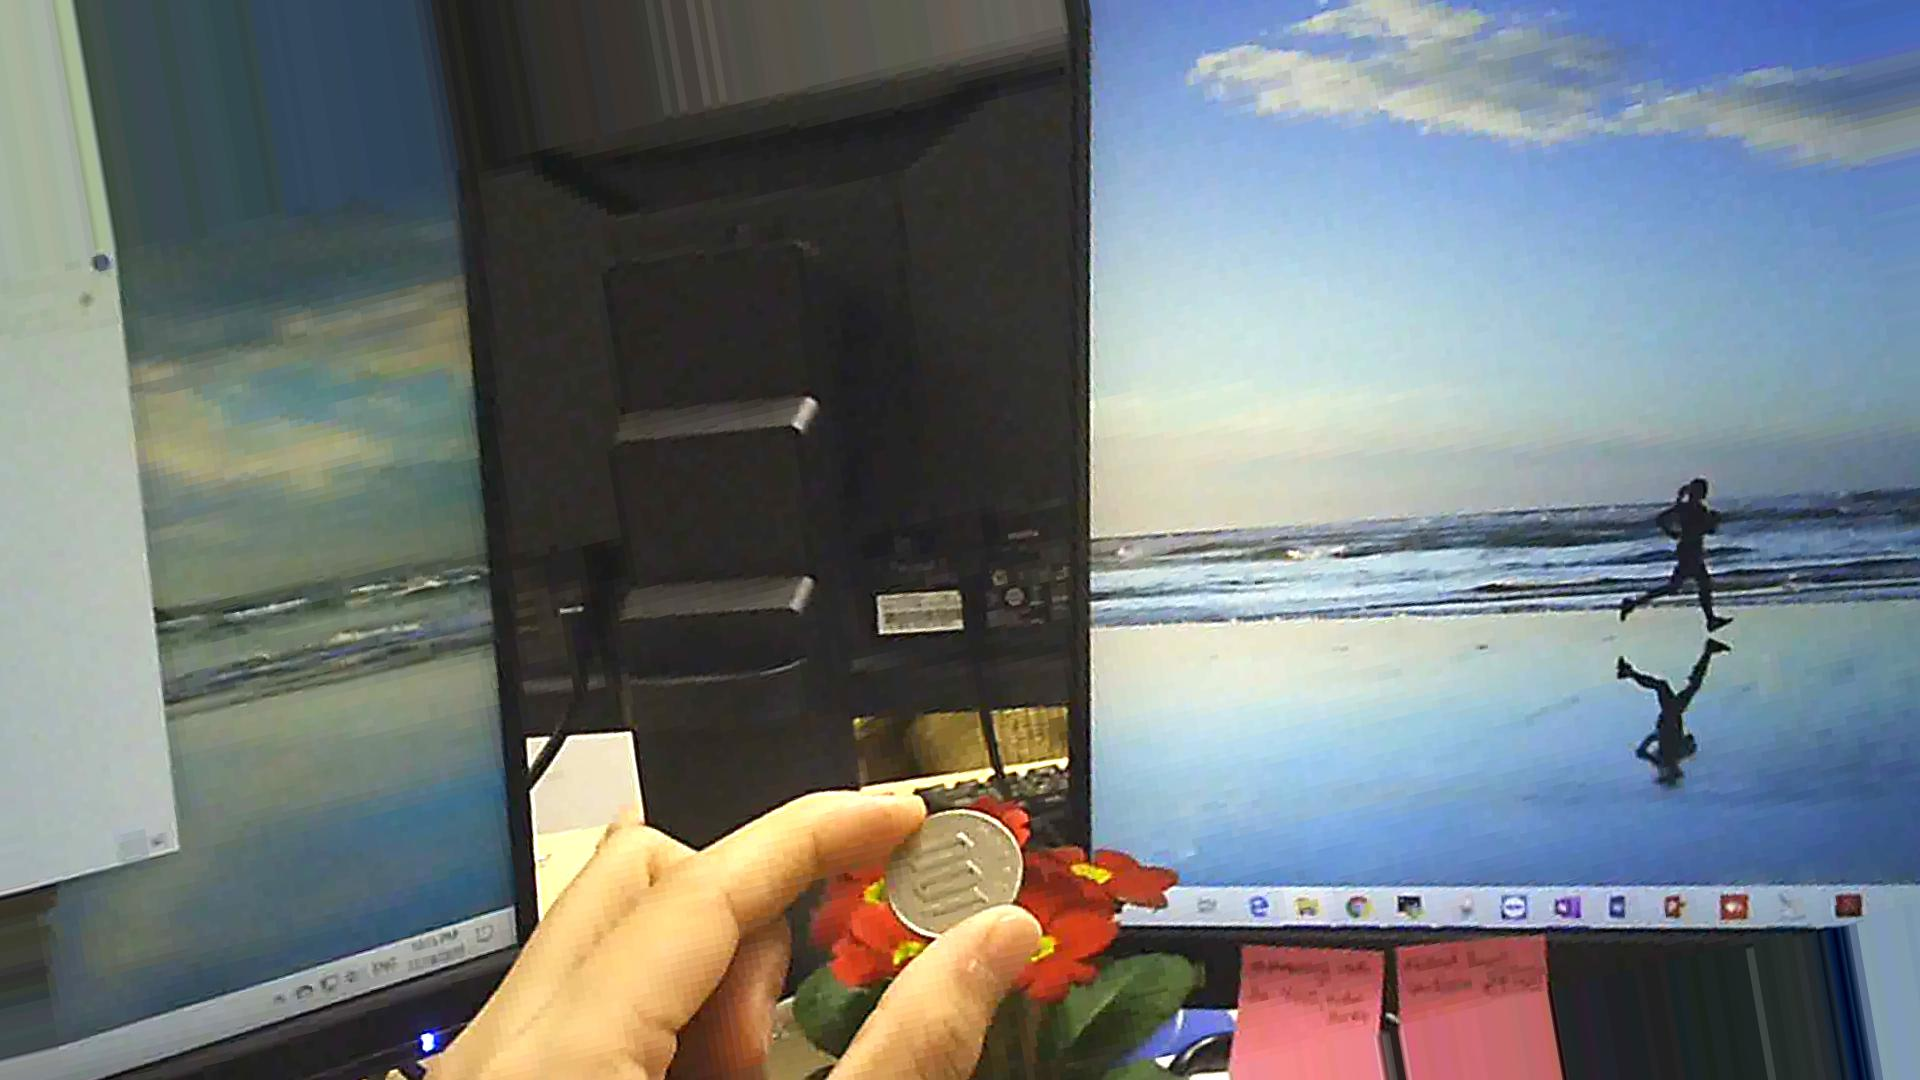100 Yen: (873, 804, 1033, 938)
